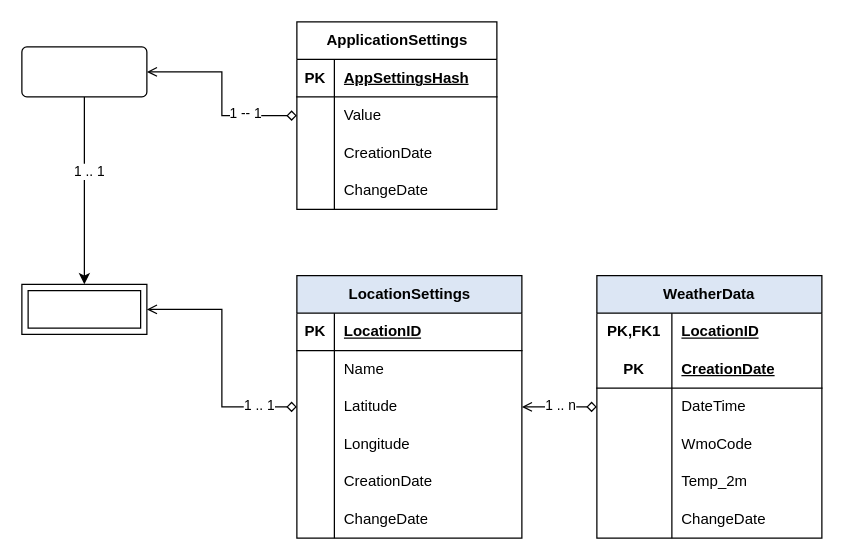
This 844x560 diagram has some shape labels left out. Each missing label, with the box of its shape:
Location: (21, 283, 147, 334)
Worker Application: (21, 46, 147, 97)
